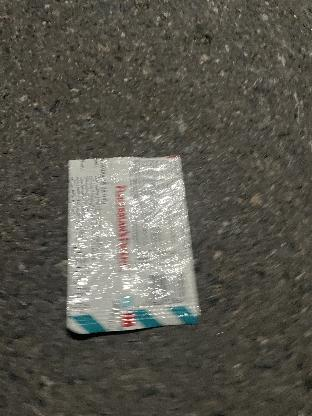Others: (51, 144, 210, 340)
